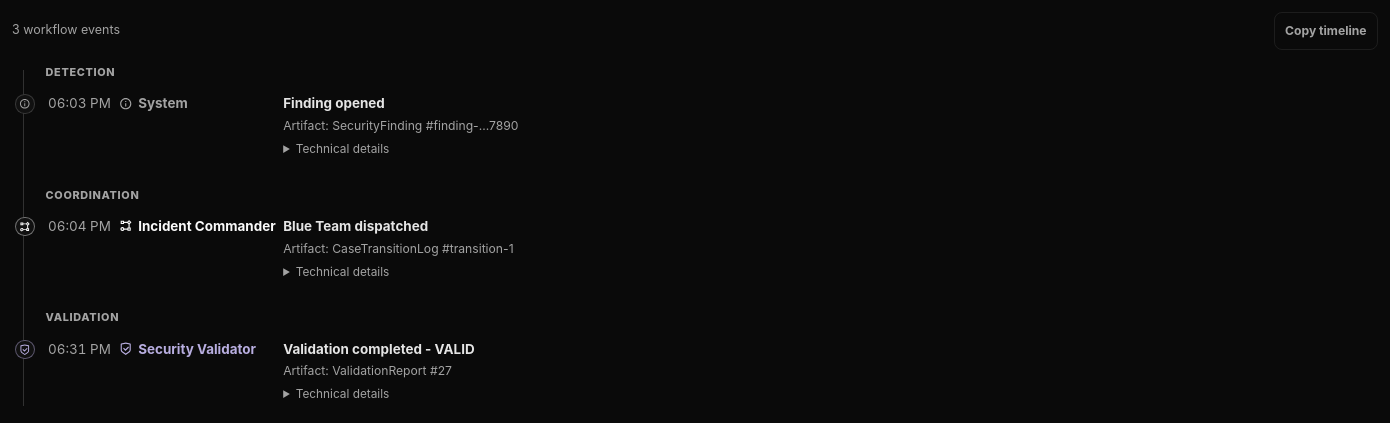
Test: Security Command timeline › copies a clean operator timeline without raw provenance
The width and height of the screenshot is (1390, 423).
Click the button "Copy timeline": (1326, 31) [1274, 12, 1378, 50]
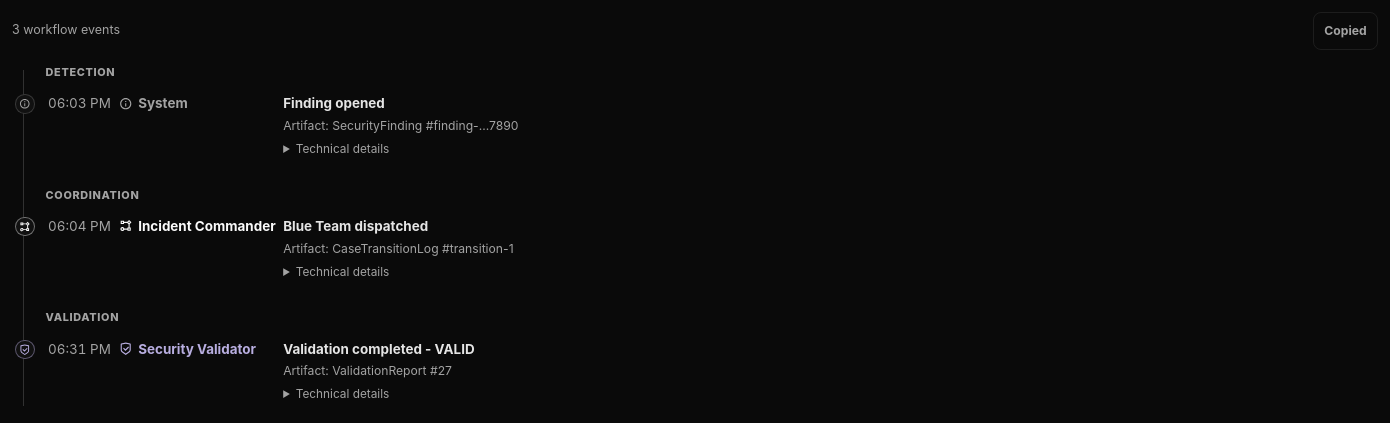
Now the button "Copied" is shown, box [1313, 12, 1378, 50]
